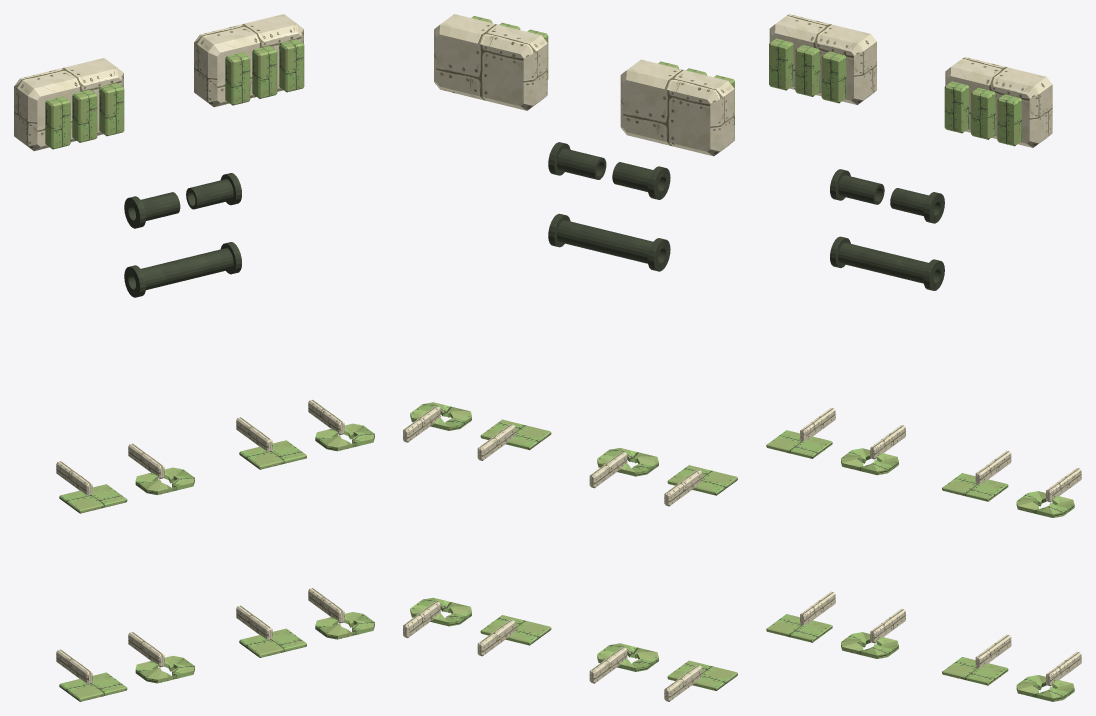
File: ECHO7_18_Kit_Dano_Reparacion.obj
3 renders of one model, left to right at view 1: azimuth 30°, elevation 25°; view 2: azimuth 150°, elevation 25°; view 3: azimuth 330°, elevation 25°, orthographic. The views are drawn at different scales.
Parts seen in each view (by area): view 1: ECHO7_18_Kit_Dano_Reparacion__Caja_repuestos_02, ECHO7_18_Kit_Dano_Reparacion__Caja_repuestos_01, ECHO7_18_Kit_Dano_Reparacion__Conducto_sano_01, ECHO7_18_Kit_Dano_Reparacion__Placa_repuesto_03, ECHO7_18_Kit_Dano_Reparacion__Placa_repuesto_04, ECHO7_18_Kit_Dano_Reparacion__Placa_repuesto_05, ECHO7_18_Kit_Dano_Reparacion__Placa_repuesto_01, ECHO7_18_Kit_Dano_Reparacion__Placa_repuesto_02, ECHO7_18_Kit_Dano_Reparacion__Placa_repuesto_06, ECHO7_18_Kit_Dano_Reparacion__Sano_R03_ELECTRICO_01, ECHO7_18_Kit_Dano_Reparacion__Sano_R02_SOPORTE_VITAL_01, ECHO7_18_Kit_Dano_Reparacion__Sano_R01_REACTOR_01 (+17 smaller); view 2: ECHO7_18_Kit_Dano_Reparacion__Caja_repuestos_01, ECHO7_18_Kit_Dano_Reparacion__Caja_repuestos_02, ECHO7_18_Kit_Dano_Reparacion__Conducto_sano_01, ECHO7_18_Kit_Dano_Reparacion__Conducto_roto_02, ECHO7_18_Kit_Dano_Reparacion__Sano_R04_BANCO_GENETICO_01, ECHO7_18_Kit_Dano_Reparacion__Sano_R01_REACTOR_01, ECHO7_18_Kit_Dano_Reparacion__Sano_R02_SOPORTE_VITAL_01, ECHO7_18_Kit_Dano_Reparacion__Sano_R03_ELECTRICO_01, ECHO7_18_Kit_Dano_Reparacion__Danado_R01_REACTOR_01, ECHO7_18_Kit_Dano_Reparacion__Danado_R04_BANCO_GENETICO_01, ECHO7_18_Kit_Dano_Reparacion__Danado_R02_SOPORTE_VITAL_01, ECHO7_18_Kit_Dano_Reparacion__Danado_R03_ELECTRICO_01 (+11 smaller); view 3: ECHO7_18_Kit_Dano_Reparacion__Caja_repuestos_01, ECHO7_18_Kit_Dano_Reparacion__Caja_repuestos_02, ECHO7_18_Kit_Dano_Reparacion__Conducto_sano_01, ECHO7_18_Kit_Dano_Reparacion__Placa_repuesto_04, ECHO7_18_Kit_Dano_Reparacion__Placa_repuesto_03, ECHO7_18_Kit_Dano_Reparacion__Placa_repuesto_01, ECHO7_18_Kit_Dano_Reparacion__Placa_repuesto_02, ECHO7_18_Kit_Dano_Reparacion__Placa_repuesto_05, ECHO7_18_Kit_Dano_Reparacion__Placa_repuesto_06, ECHO7_18_Kit_Dano_Reparacion__Sano_R04_BANCO_GENETICO_01, ECHO7_18_Kit_Dano_Reparacion__Sano_R01_REACTOR_01, ECHO7_18_Kit_Dano_Reparacion__Sano_R02_SOPORTE_VITAL_01 (+17 smaller).
Part boxes in pixels (left/top/right/bottom): ECHO7_18_Kit_Dano_Reparacion__Caja_repuestos_02: left=194, top=14, right=303, bottom=107; ECHO7_18_Kit_Dano_Reparacion__Caja_repuestos_01: left=14, top=58, right=123, bottom=150; ECHO7_18_Kit_Dano_Reparacion__Conducto_sano_01: left=131, top=248, right=233, bottom=289; ECHO7_18_Kit_Dano_Reparacion__Placa_repuesto_03: left=99, top=83, right=124, bottom=136; ECHO7_18_Kit_Dano_Reparacion__Placa_repuesto_04: left=225, top=52, right=250, bottom=105; ECHO7_18_Kit_Dano_Reparacion__Placa_repuesto_05: left=252, top=45, right=277, bottom=98; ECHO7_18_Kit_Dano_Reparacion__Placa_repuesto_01: left=45, top=96, right=70, bottom=149; ECHO7_18_Kit_Dano_Reparacion__Placa_repuesto_02: left=72, top=89, right=97, bottom=142; ECHO7_18_Kit_Dano_Reparacion__Placa_repuesto_06: left=279, top=39, right=304, bottom=92; ECHO7_18_Kit_Dano_Reparacion__Sano_R03_ELECTRICO_01: left=59, top=484, right=127, bottom=513; ECHO7_18_Kit_Dano_Reparacion__Sano_R02_SOPORTE_VITAL_01: left=239, top=628, right=306, bottom=657; ECHO7_18_Kit_Dano_Reparacion__Sano_R01_REACTOR_01: left=59, top=672, right=127, bottom=701; ECHO7_18_Kit_Dano_Reparacion__Caja_repuestos_01: left=620, top=59, right=734, bottom=156; ECHO7_18_Kit_Dano_Reparacion__Caja_repuestos_02: left=434, top=14, right=547, bottom=110; ECHO7_18_Kit_Dano_Reparacion__Conducto_sano_01: left=557, top=220, right=662, bottom=263; ECHO7_18_Kit_Dano_Reparacion__Conducto_roto_02: left=557, top=148, right=606, bottom=179; ECHO7_18_Kit_Dano_Reparacion__Sano_R04_BANCO_GENETICO_01: left=480, top=419, right=551, bottom=450; ECHO7_18_Kit_Dano_Reparacion__Sano_R01_REACTOR_01: left=667, top=660, right=737, bottom=690; ECHO7_18_Kit_Dano_Reparacion__Sano_R02_SOPORTE_VITAL_01: left=480, top=615, right=551, bottom=645; ECHO7_18_Kit_Dano_Reparacion__Sano_R03_ELECTRICO_01: left=667, top=465, right=737, bottom=495; ECHO7_18_Kit_Dano_Reparacion__Danado_R01_REACTOR_01: left=597, top=643, right=658, bottom=671; ECHO7_18_Kit_Dano_Reparacion__Danado_R04_BANCO_GENETICO_01: left=410, top=402, right=471, bottom=430; ECHO7_18_Kit_Dano_Reparacion__Danado_R02_SOPORTE_VITAL_01: left=410, top=597, right=471, bottom=626; ECHO7_18_Kit_Dano_Reparacion__Danado_R03_ELECTRICO_01: left=597, top=448, right=658, bottom=476; ECHO7_18_Kit_Dano_Reparacion__Caja_repuestos_01: left=769, top=14, right=876, bottom=104; ECHO7_18_Kit_Dano_Reparacion__Caja_repuestos_02: left=945, top=57, right=1052, bottom=147; ECHO7_18_Kit_Dano_Reparacion__Conducto_sano_01: left=838, top=242, right=937, bottom=283; ECHO7_18_Kit_Dano_Reparacion__Placa_repuesto_04: left=944, top=81, right=969, bottom=133; ECHO7_18_Kit_Dano_Reparacion__Placa_repuesto_03: left=821, top=51, right=846, bottom=103; ECHO7_18_Kit_Dano_Reparacion__Placa_repuesto_01: left=769, top=38, right=793, bottom=90; ECHO7_18_Kit_Dano_Reparacion__Placa_repuesto_02: left=795, top=45, right=819, bottom=96; ECHO7_18_Kit_Dano_Reparacion__Placa_repuesto_05: left=971, top=88, right=995, bottom=139; ECHO7_18_Kit_Dano_Reparacion__Placa_repuesto_06: left=997, top=94, right=1021, bottom=146; ECHO7_18_Kit_Dano_Reparacion__Sano_R04_BANCO_GENETICO_01: left=942, top=473, right=1008, bottom=501; ECHO7_18_Kit_Dano_Reparacion__Sano_R01_REACTOR_01: left=766, top=614, right=832, bottom=642; ECHO7_18_Kit_Dano_Reparacion__Sano_R02_SOPORTE_VITAL_01: left=942, top=657, right=1008, bottom=685.
Size of the model in its own units: 5.4 by 9.59 by 1.3.
Materials: 3 (3 with a texture image).
